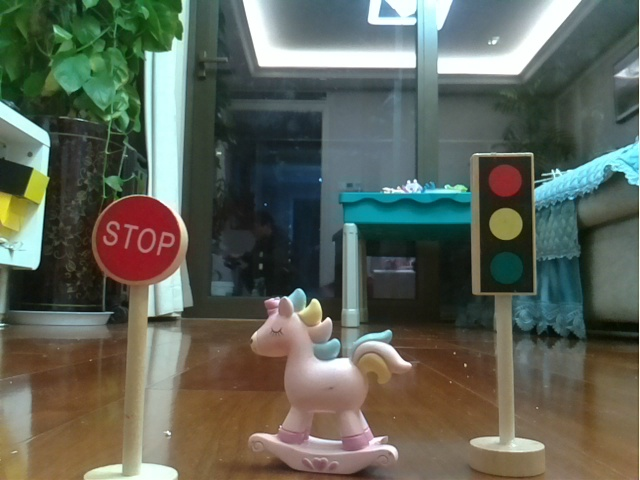Horse: (234, 279, 419, 480)
Red Traffic Light: (463, 141, 551, 479)
Stop Sign: (78, 189, 191, 480)
